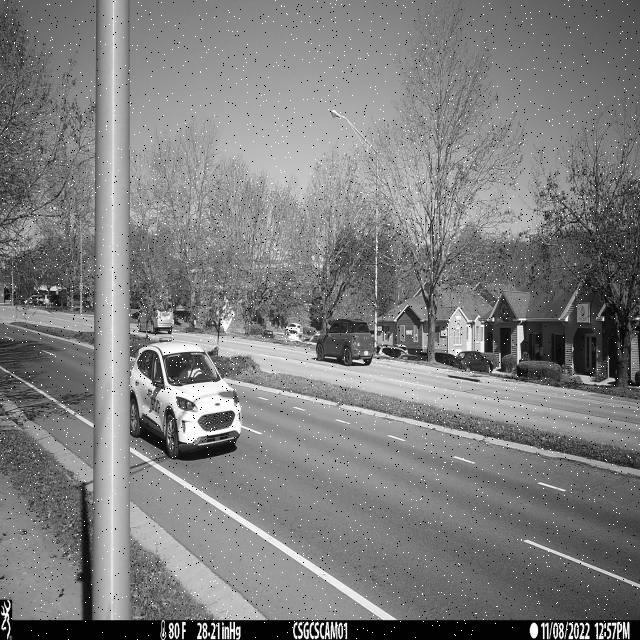SUV: (131, 337, 243, 459)
